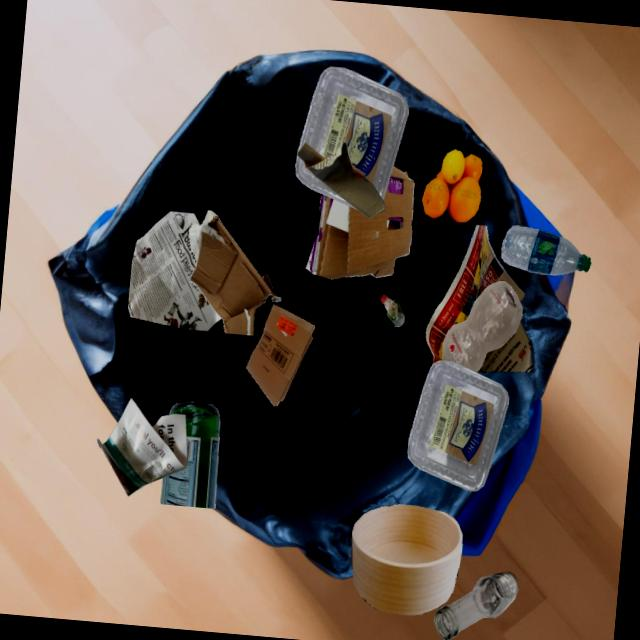biowaste: (422, 149, 482, 222)
cardboard: (305, 166, 414, 279), (188, 210, 281, 336), (246, 304, 315, 406), (296, 142, 385, 218)
combustible waste: (350, 504, 462, 615)
glass: (160, 401, 220, 508), (434, 571, 518, 640)
paper: (425, 224, 524, 366), (127, 211, 221, 331), (97, 398, 187, 496), (477, 320, 533, 371)
plastic: (297, 66, 408, 200), (407, 360, 509, 491), (442, 280, 522, 372), (501, 225, 591, 275), (380, 294, 404, 327)
